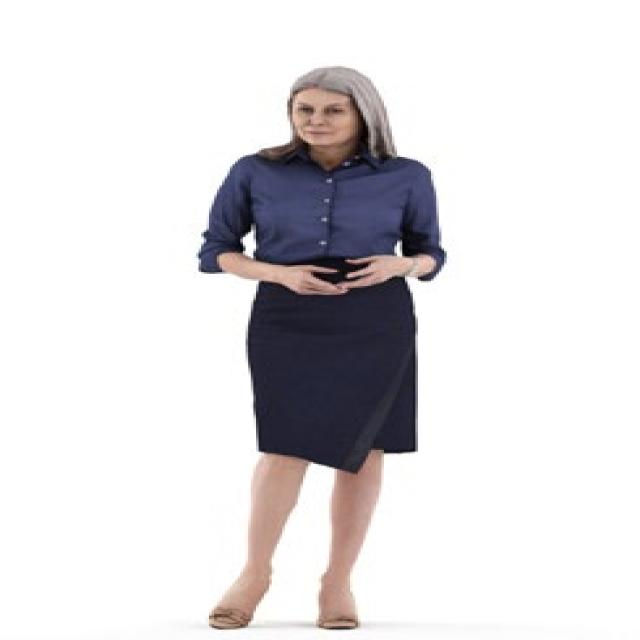standing: (184, 63, 454, 634)
